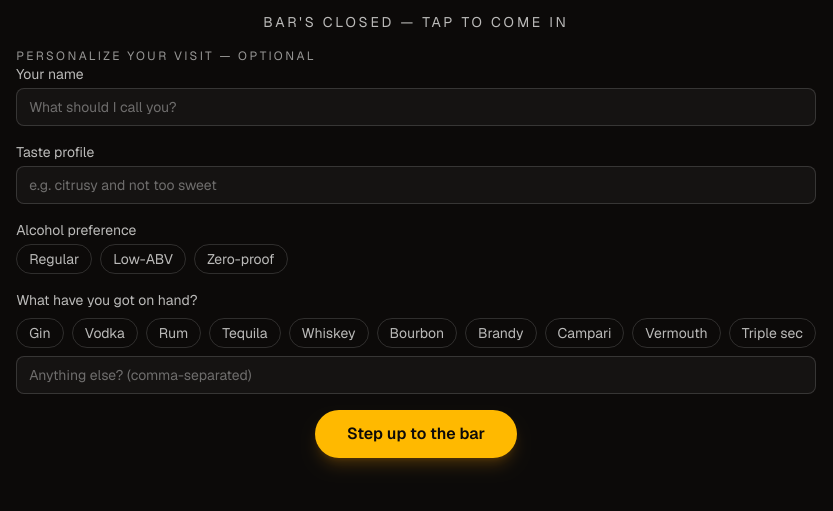
Scenario: BarConcierge › surfaces an error and does not start a session when the API fails
The image size is (833, 511).
Click the button "Step up to the bar": (416, 434) [315,410,517,458]
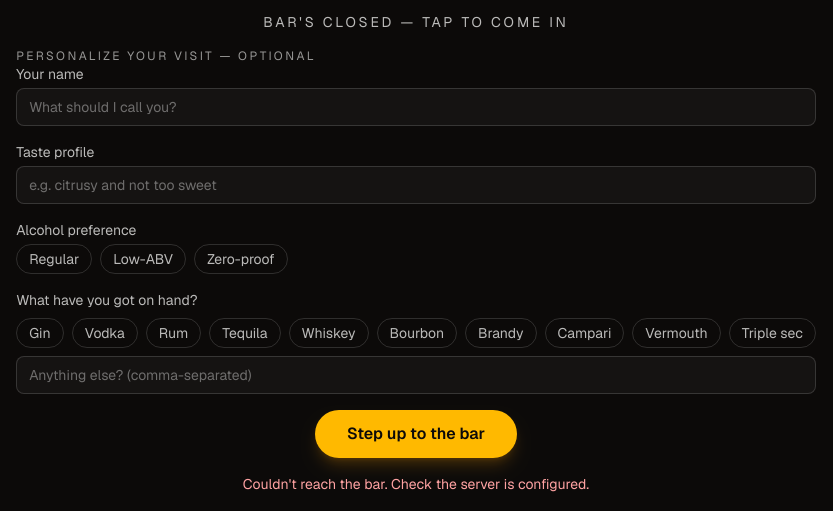
Expected: the message "Couldn't reach the bar. Check the server is configured." is shown, [243,474,589,494]
